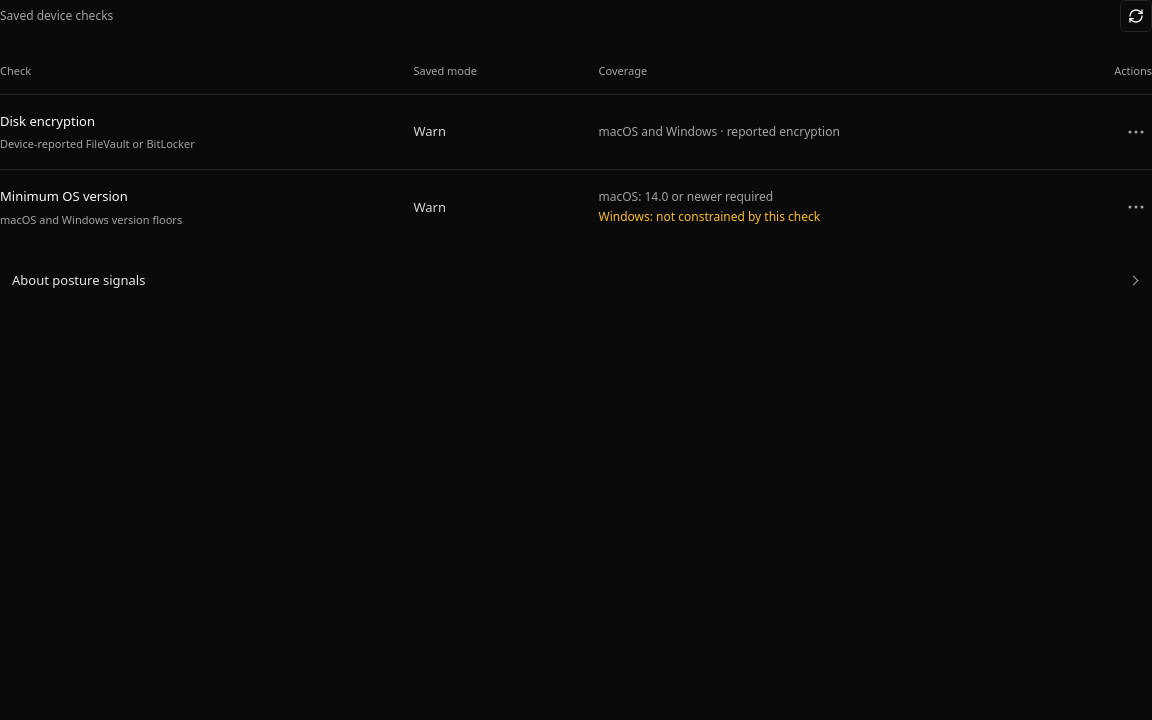
Test: Saved device posture policy › keeps local mode edits separate from the saved policy and cancel performs no write
Check: the text "Warn" in the row of "Device-reported FileVault or BitLocker" is shown, box 413,122 -> 446,140
Click the button "Disk encryption" at (47, 121), box 0,111 -> 377,131
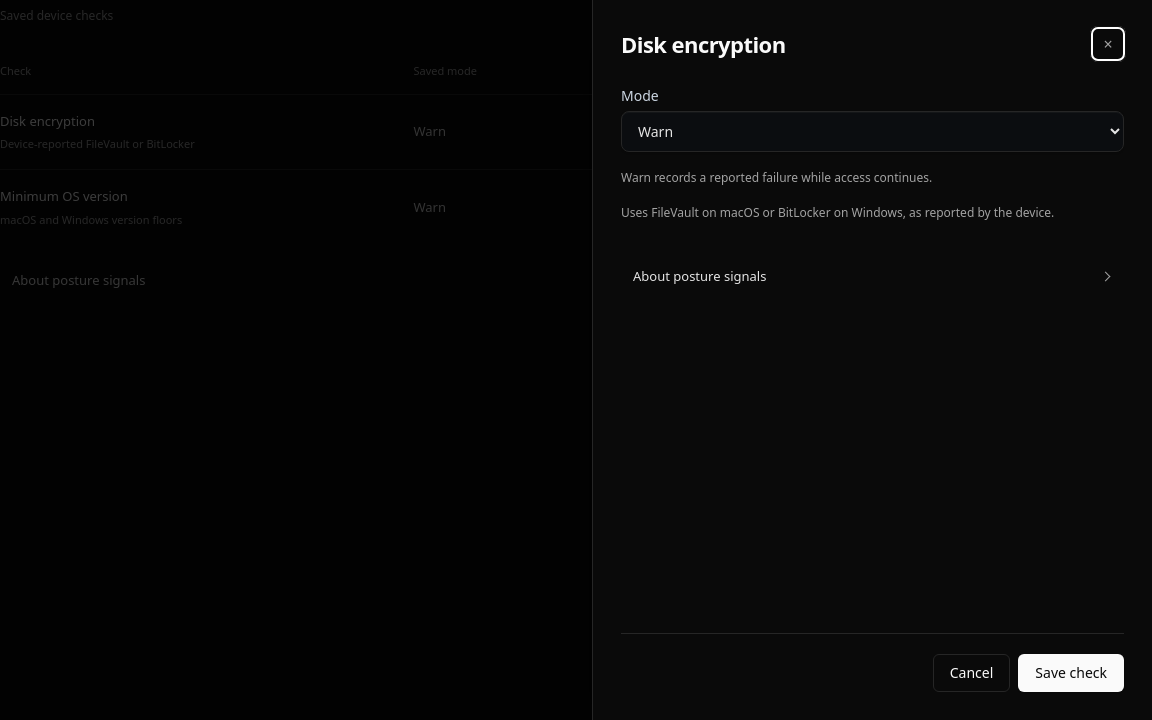
Select "Require" in the dropdown labelled "Mode" at (872, 132), box 621,111 -> 1124,152
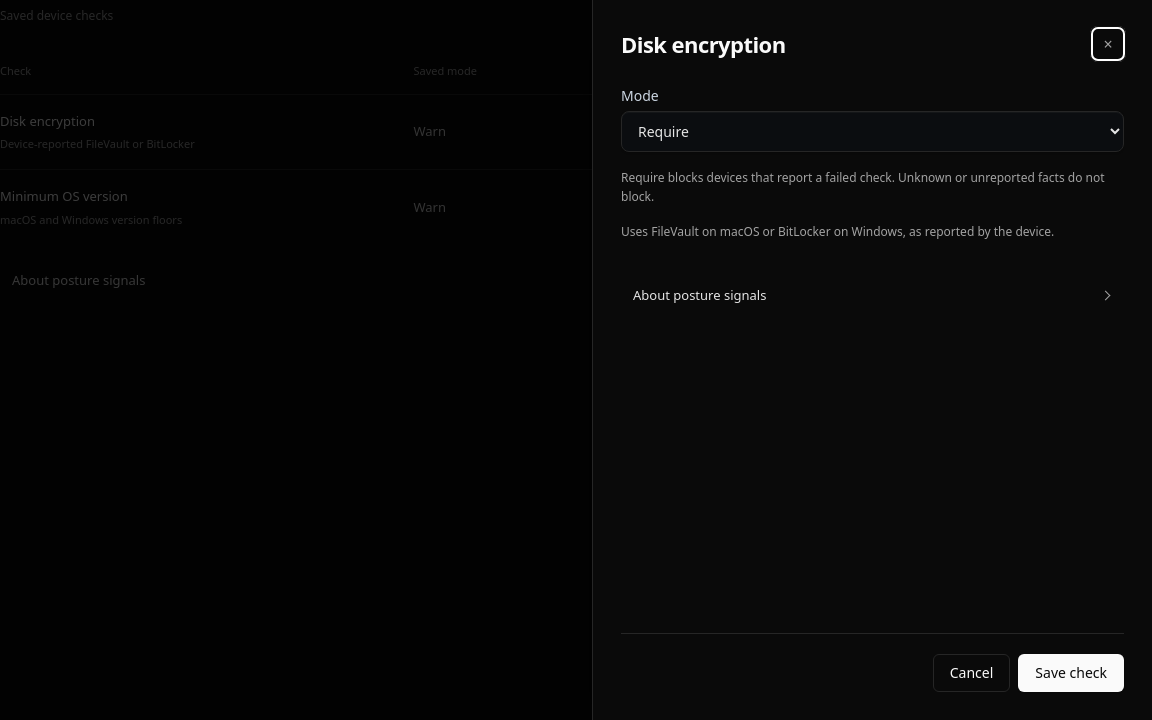
Check: the text "Warn" is shown, box 395,95 -> 580,170
Click the button "Cancel" at (972, 673), box 933,654 -> 1010,692
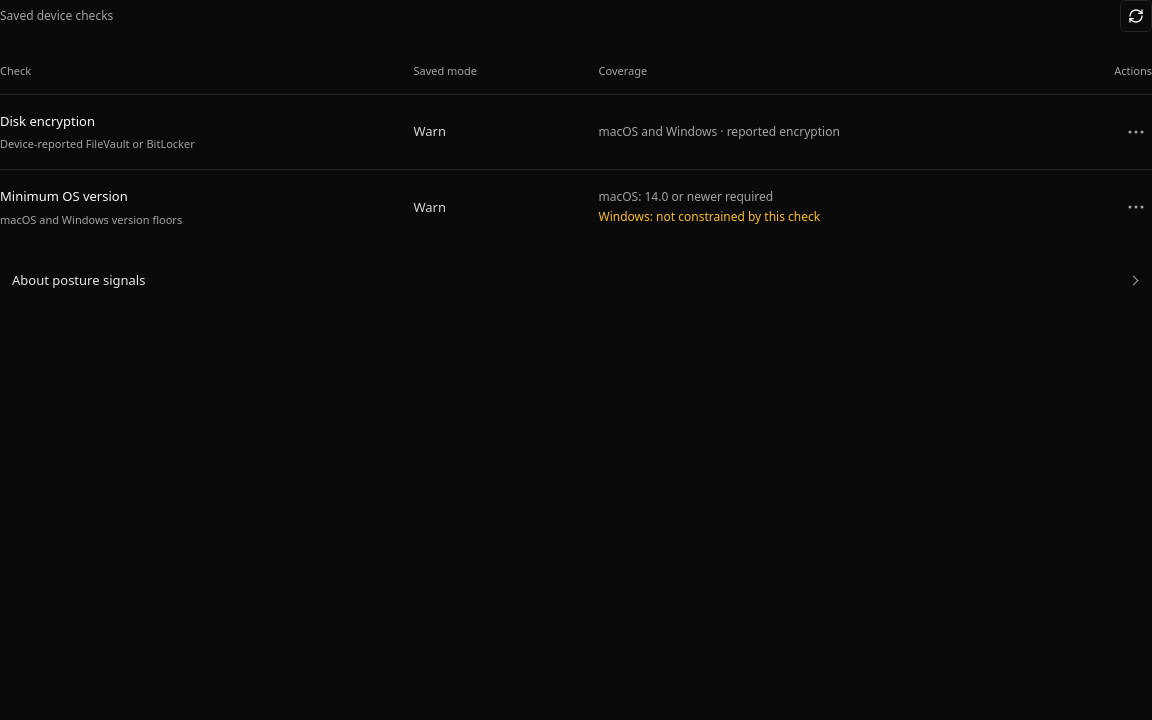
Check: the text "Warn" in the row of "Device-reported FileVault or BitLocker" is shown, box 413,122 -> 446,140
Click the button named "Actions for Disk encryption" at (1136, 132), box 1120,116 -> 1151,148
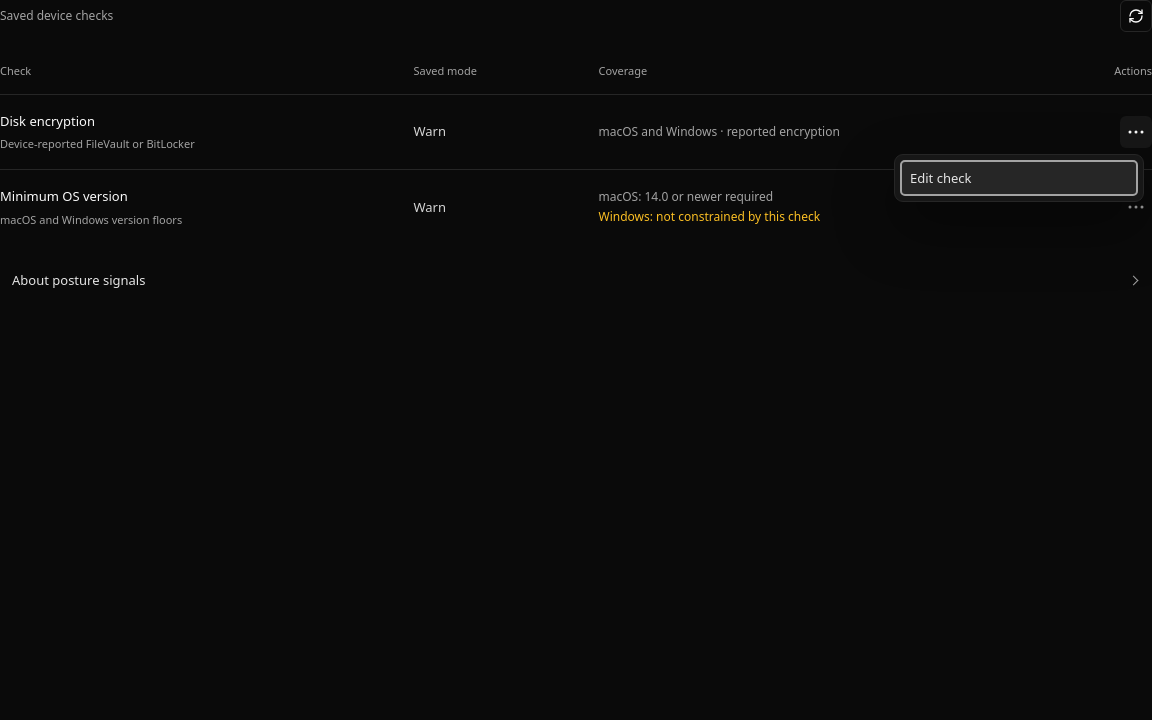
Click the menu item "Edit check" at (1019, 178), box 900,160 -> 1138,196
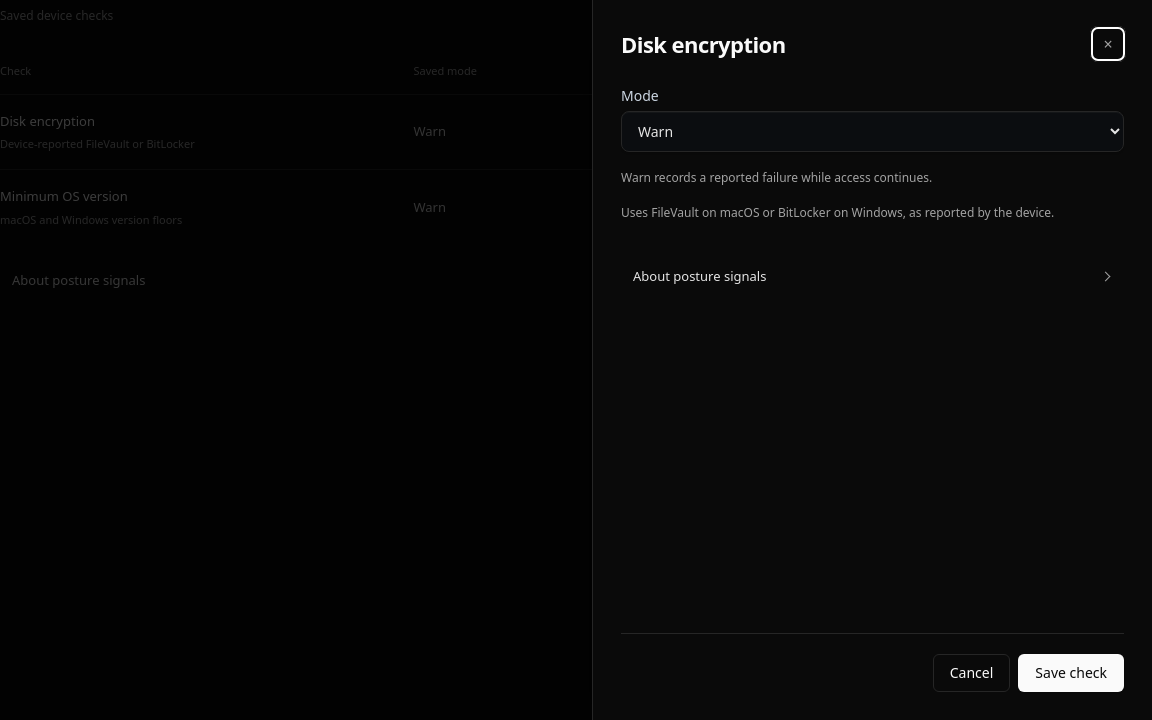
Check: the dropdown labelled "Mode" shows "Warn", box 621,111 -> 1124,152
